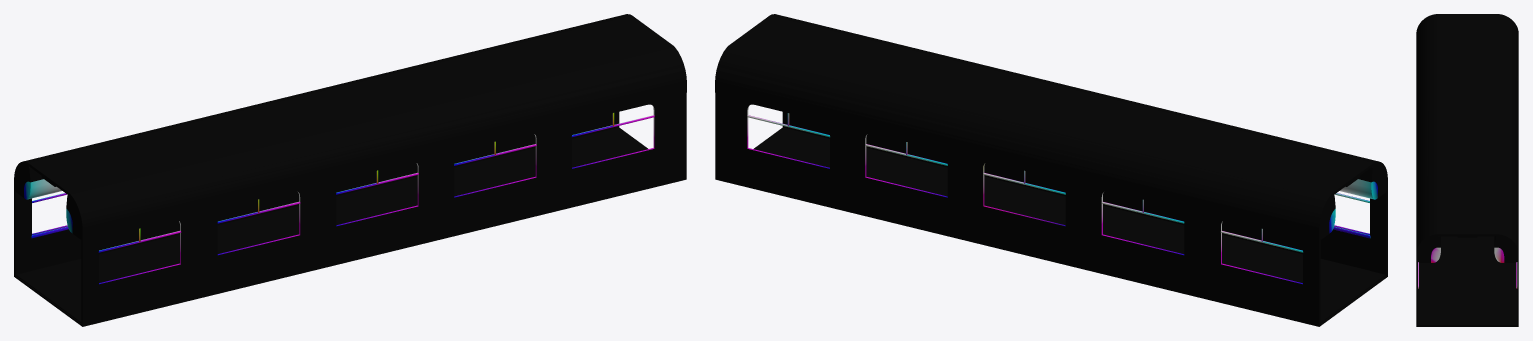
The model's file is VagonVentanasVentilacion.fbx.
3 renders of one model, left to right at view 1: azimuth 30°, elevation 25°; view 2: azimuth 150°, elevation 25°; view 3: azimuth 270°, elevation 25°, orthographic. The views are drawn at different scales.
Visible parts, largest first — view 1: VagonVentanasLau005; view 2: VagonVentanasLau005; view 3: VagonVentanasLau005.
Part boxes in pixels (x1=…): VagonVentanasLau005: x1=14, y1=14, x2=686, y2=326; VagonVentanasLau005: x1=715, y1=14, x2=1387, y2=326; VagonVentanasLau005: x1=1416, y1=14, x2=1518, y2=326.
Bounding box in the file's own units: 2038 × 400 × 401.
